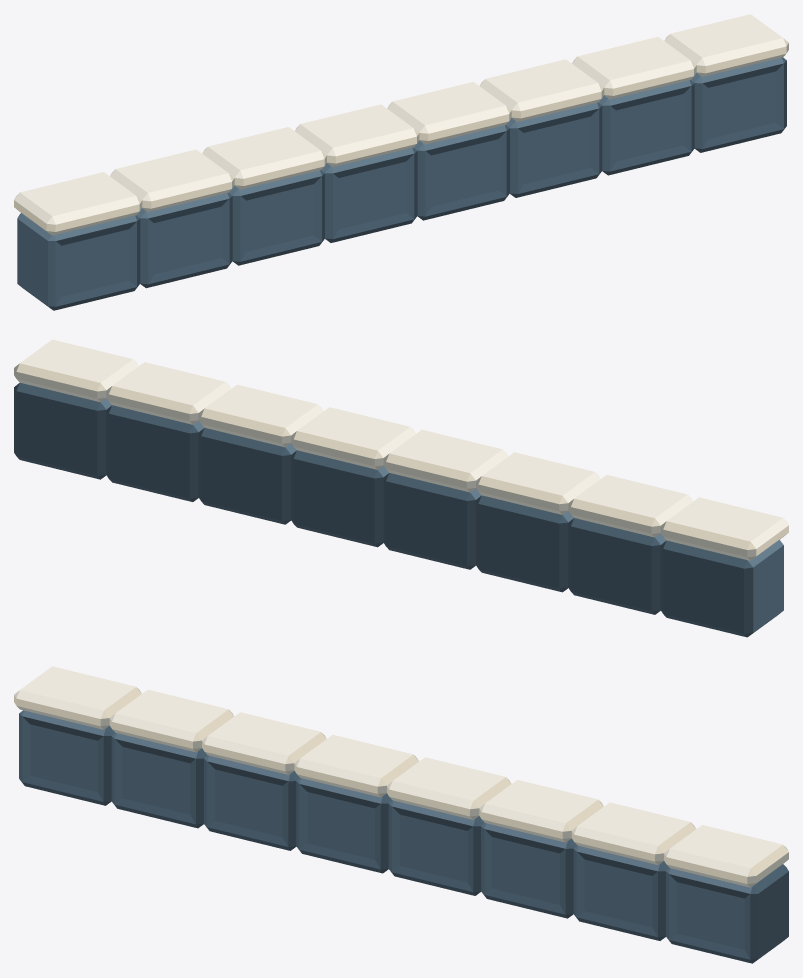
The model's file is Terrain_TopRun8L.gltf.
The picture shows the model from 3 angles, top to bottom: view 1: azimuth 30°, elevation 25°; view 2: azimuth 150°, elevation 25°; view 3: azimuth 330°, elevation 25°; orthographic projection.
Parts seen in each view (by area): view 1: Terrain_TopRun8L_baked; view 2: Terrain_TopRun8L_baked; view 3: Terrain_TopRun8L_baked.
Boxes of the visible parts, <box> form: Terrain_TopRun8L_baked: <box>14,14,788,310</box>; Terrain_TopRun8L_baked: <box>14,339,788,637</box>; Terrain_TopRun8L_baked: <box>14,666,788,963</box>.
Bounding box in the file's own units: 8.03 × 1 × 0.735.
